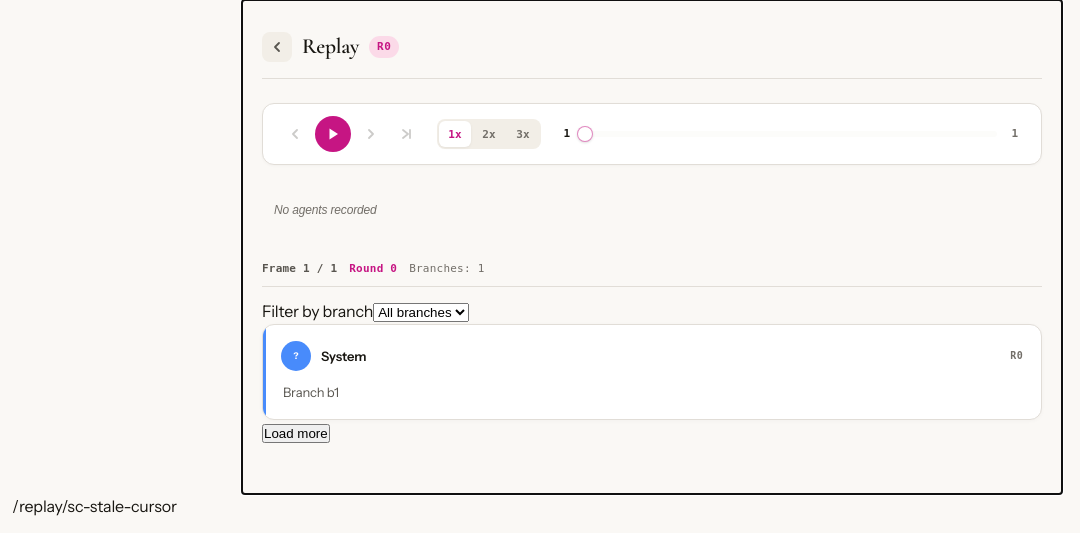
Test: ReplayView — pagination (cursor-based load more) › stops a stale empty next page from repeating the same cursor forever
Click the button with test id "replay-load-more": (296, 434) 262,424 -> 330,444
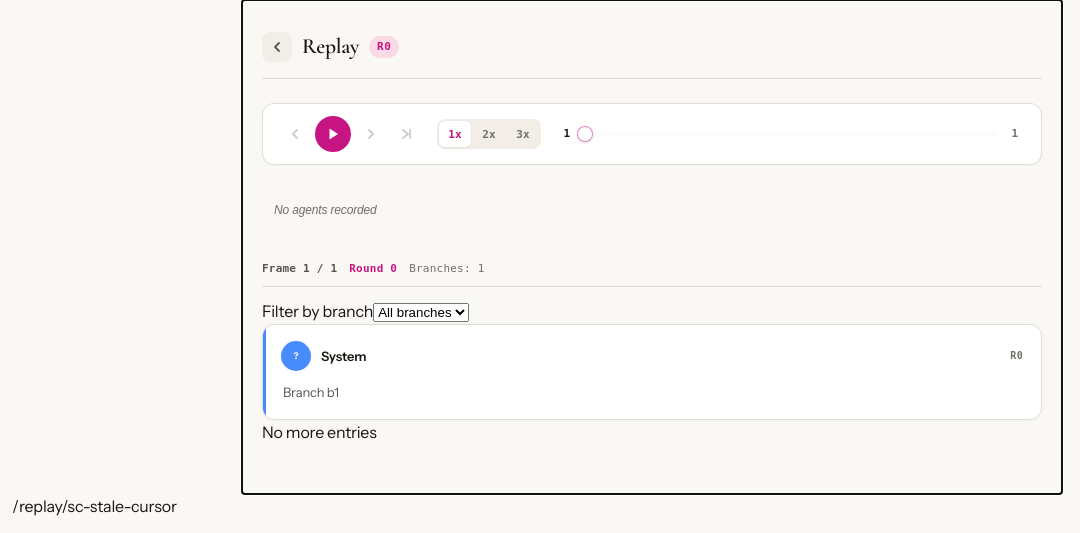
Expected: the button with test id "replay-load-more" is gone
Expected: the text "No more entries" is shown, 262,422 -> 377,442
